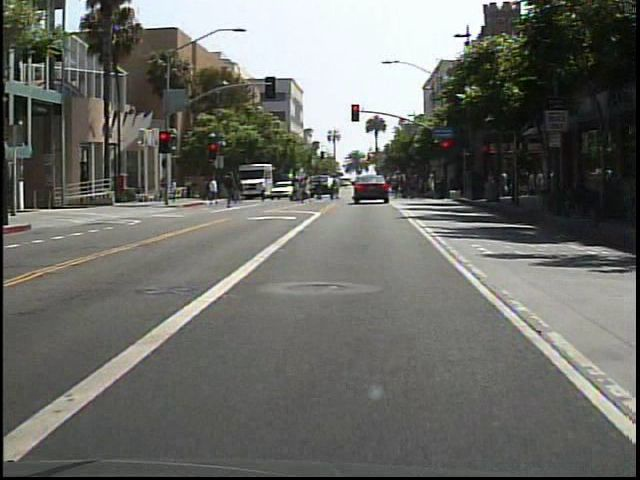person: (221, 173, 241, 210), (346, 168, 363, 207), (298, 173, 315, 206), (204, 178, 221, 209)
